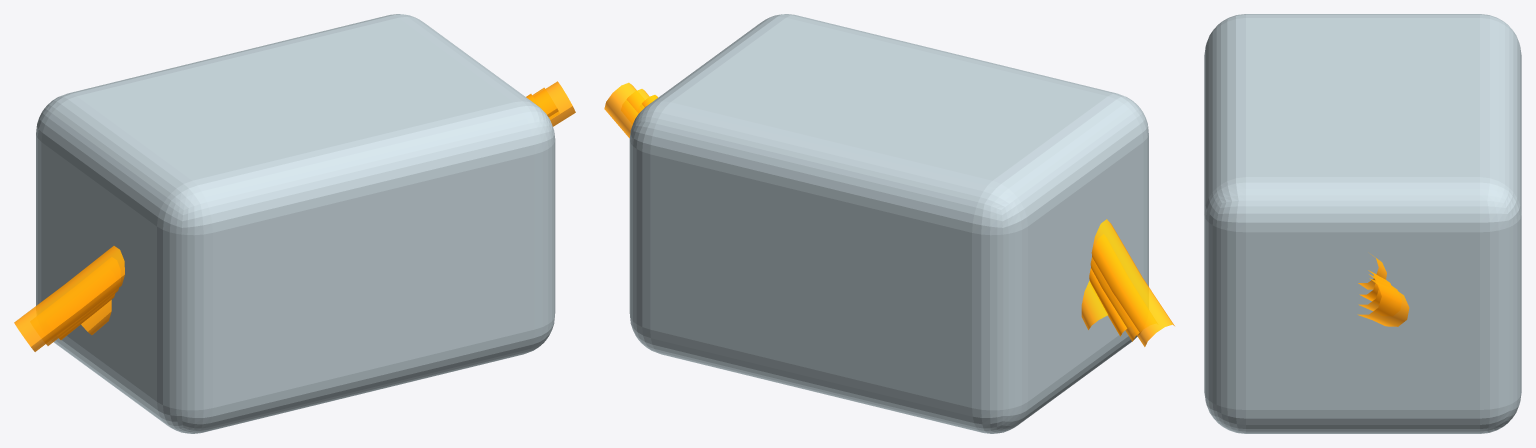
File: remaining_systems_02.glb
3 renders of one model, left to right at view 1: azimuth 30°, elevation 25°; view 2: azimuth 150°, elevation 25°; view 3: azimuth 270°, elevation 25°, orthographic.
Visible parts, largest first — view 1: asset_mesh__remaining_systems_0152__reference_body, asset_mesh__remaining_systems_0251__fluid_path, asset_mesh__remaining_systems_0169__fluid_path; view 2: asset_mesh__remaining_systems_0152__reference_body, asset_mesh__remaining_systems_0251__fluid_path, asset_mesh__remaining_systems_0169__fluid_path, asset_mesh__remaining_systems_0168__fluid_path, asset_mesh__remaining_systems_0211__fluid_path; view 3: asset_mesh__remaining_systems_0152__reference_body, asset_mesh__remaining_systems_0251__fluid_path.
Boxes of the visible parts, x1,y1,x2,y2 form: asset_mesh__remaining_systems_0152__reference_body: [36, 14, 555, 433]; asset_mesh__remaining_systems_0251__fluid_path: [14, 81, 575, 351]; asset_mesh__remaining_systems_0169__fluid_path: [46, 87, 558, 345]; asset_mesh__remaining_systems_0152__reference_body: [629, 14, 1148, 433]; asset_mesh__remaining_systems_0251__fluid_path: [604, 82, 1174, 346]; asset_mesh__remaining_systems_0169__fluid_path: [626, 89, 1139, 341]; asset_mesh__remaining_systems_0168__fluid_path: [642, 95, 1127, 336]; asset_mesh__remaining_systems_0211__fluid_path: [1081, 280, 1107, 329]; asset_mesh__remaining_systems_0152__reference_body: [1204, 14, 1521, 433]; asset_mesh__remaining_systems_0251__fluid_path: [1357, 278, 1409, 326].
Bounding box in the file's own units: 1.73 × 0.7614 × 0.84.
